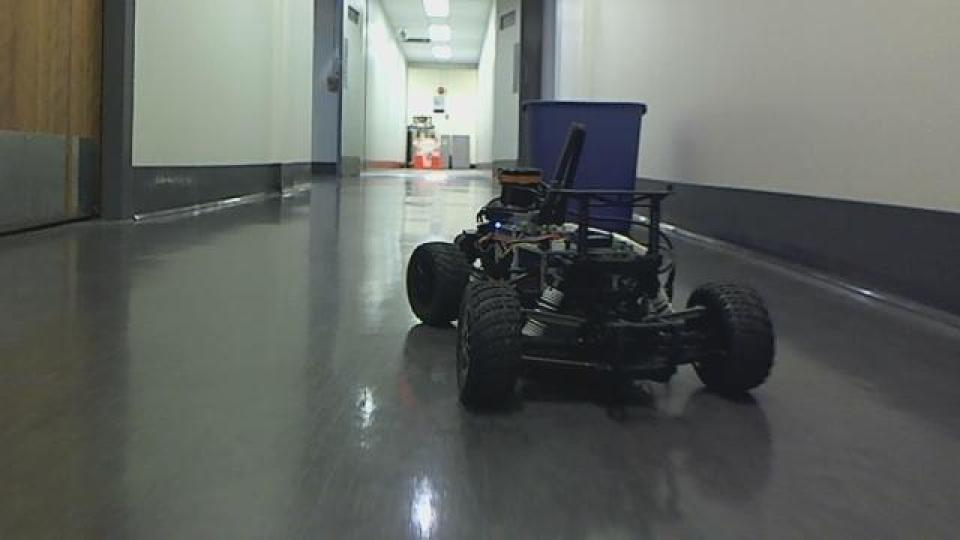car: (402, 99, 778, 419)
